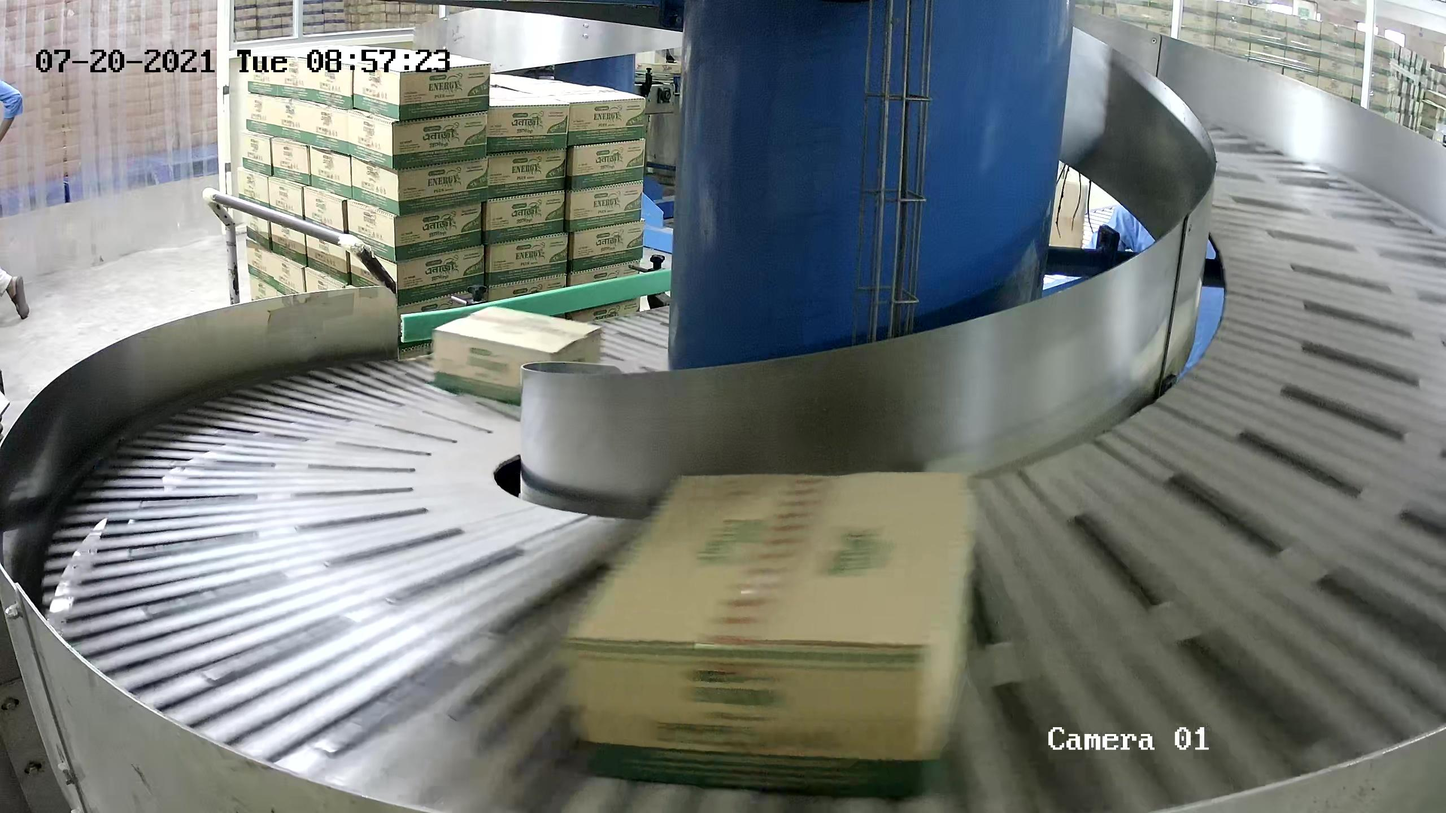Box: (556, 465, 977, 800), (432, 305, 604, 406)
